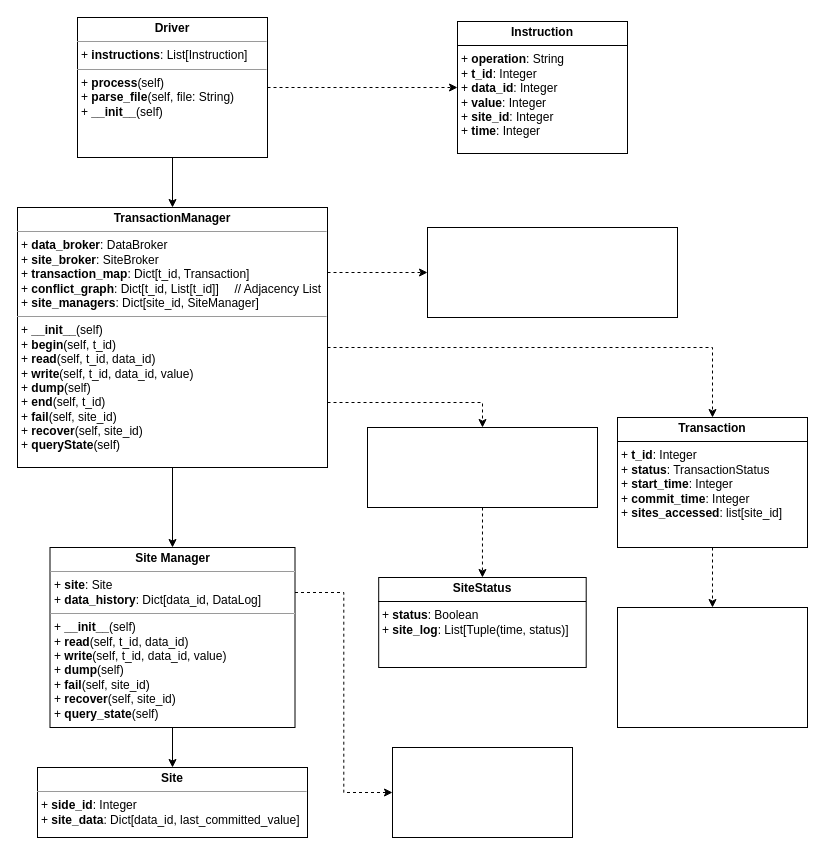
Image size: 825x855. Some labels were removed from this diagram. Each missing label, with the box of its shape:
DataBroker + data_map : Dict[data_id, List[site_id]]: (426, 226, 678, 318)
DataLog + log : List[Tuple(time, value)]: (392, 746, 572, 838)
SiteBroker + site_map : Dict[site_id, SiteStatus]: (366, 426, 598, 508)
TransactionStatus [Enum] + READY + RUNNING + WAITING + ABORTED + COMMITTED: (616, 606, 808, 728)
